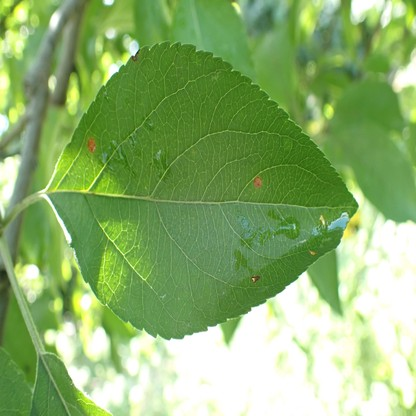frogeye_leaf_spot: (253, 175, 263, 188), (88, 137, 96, 152)
